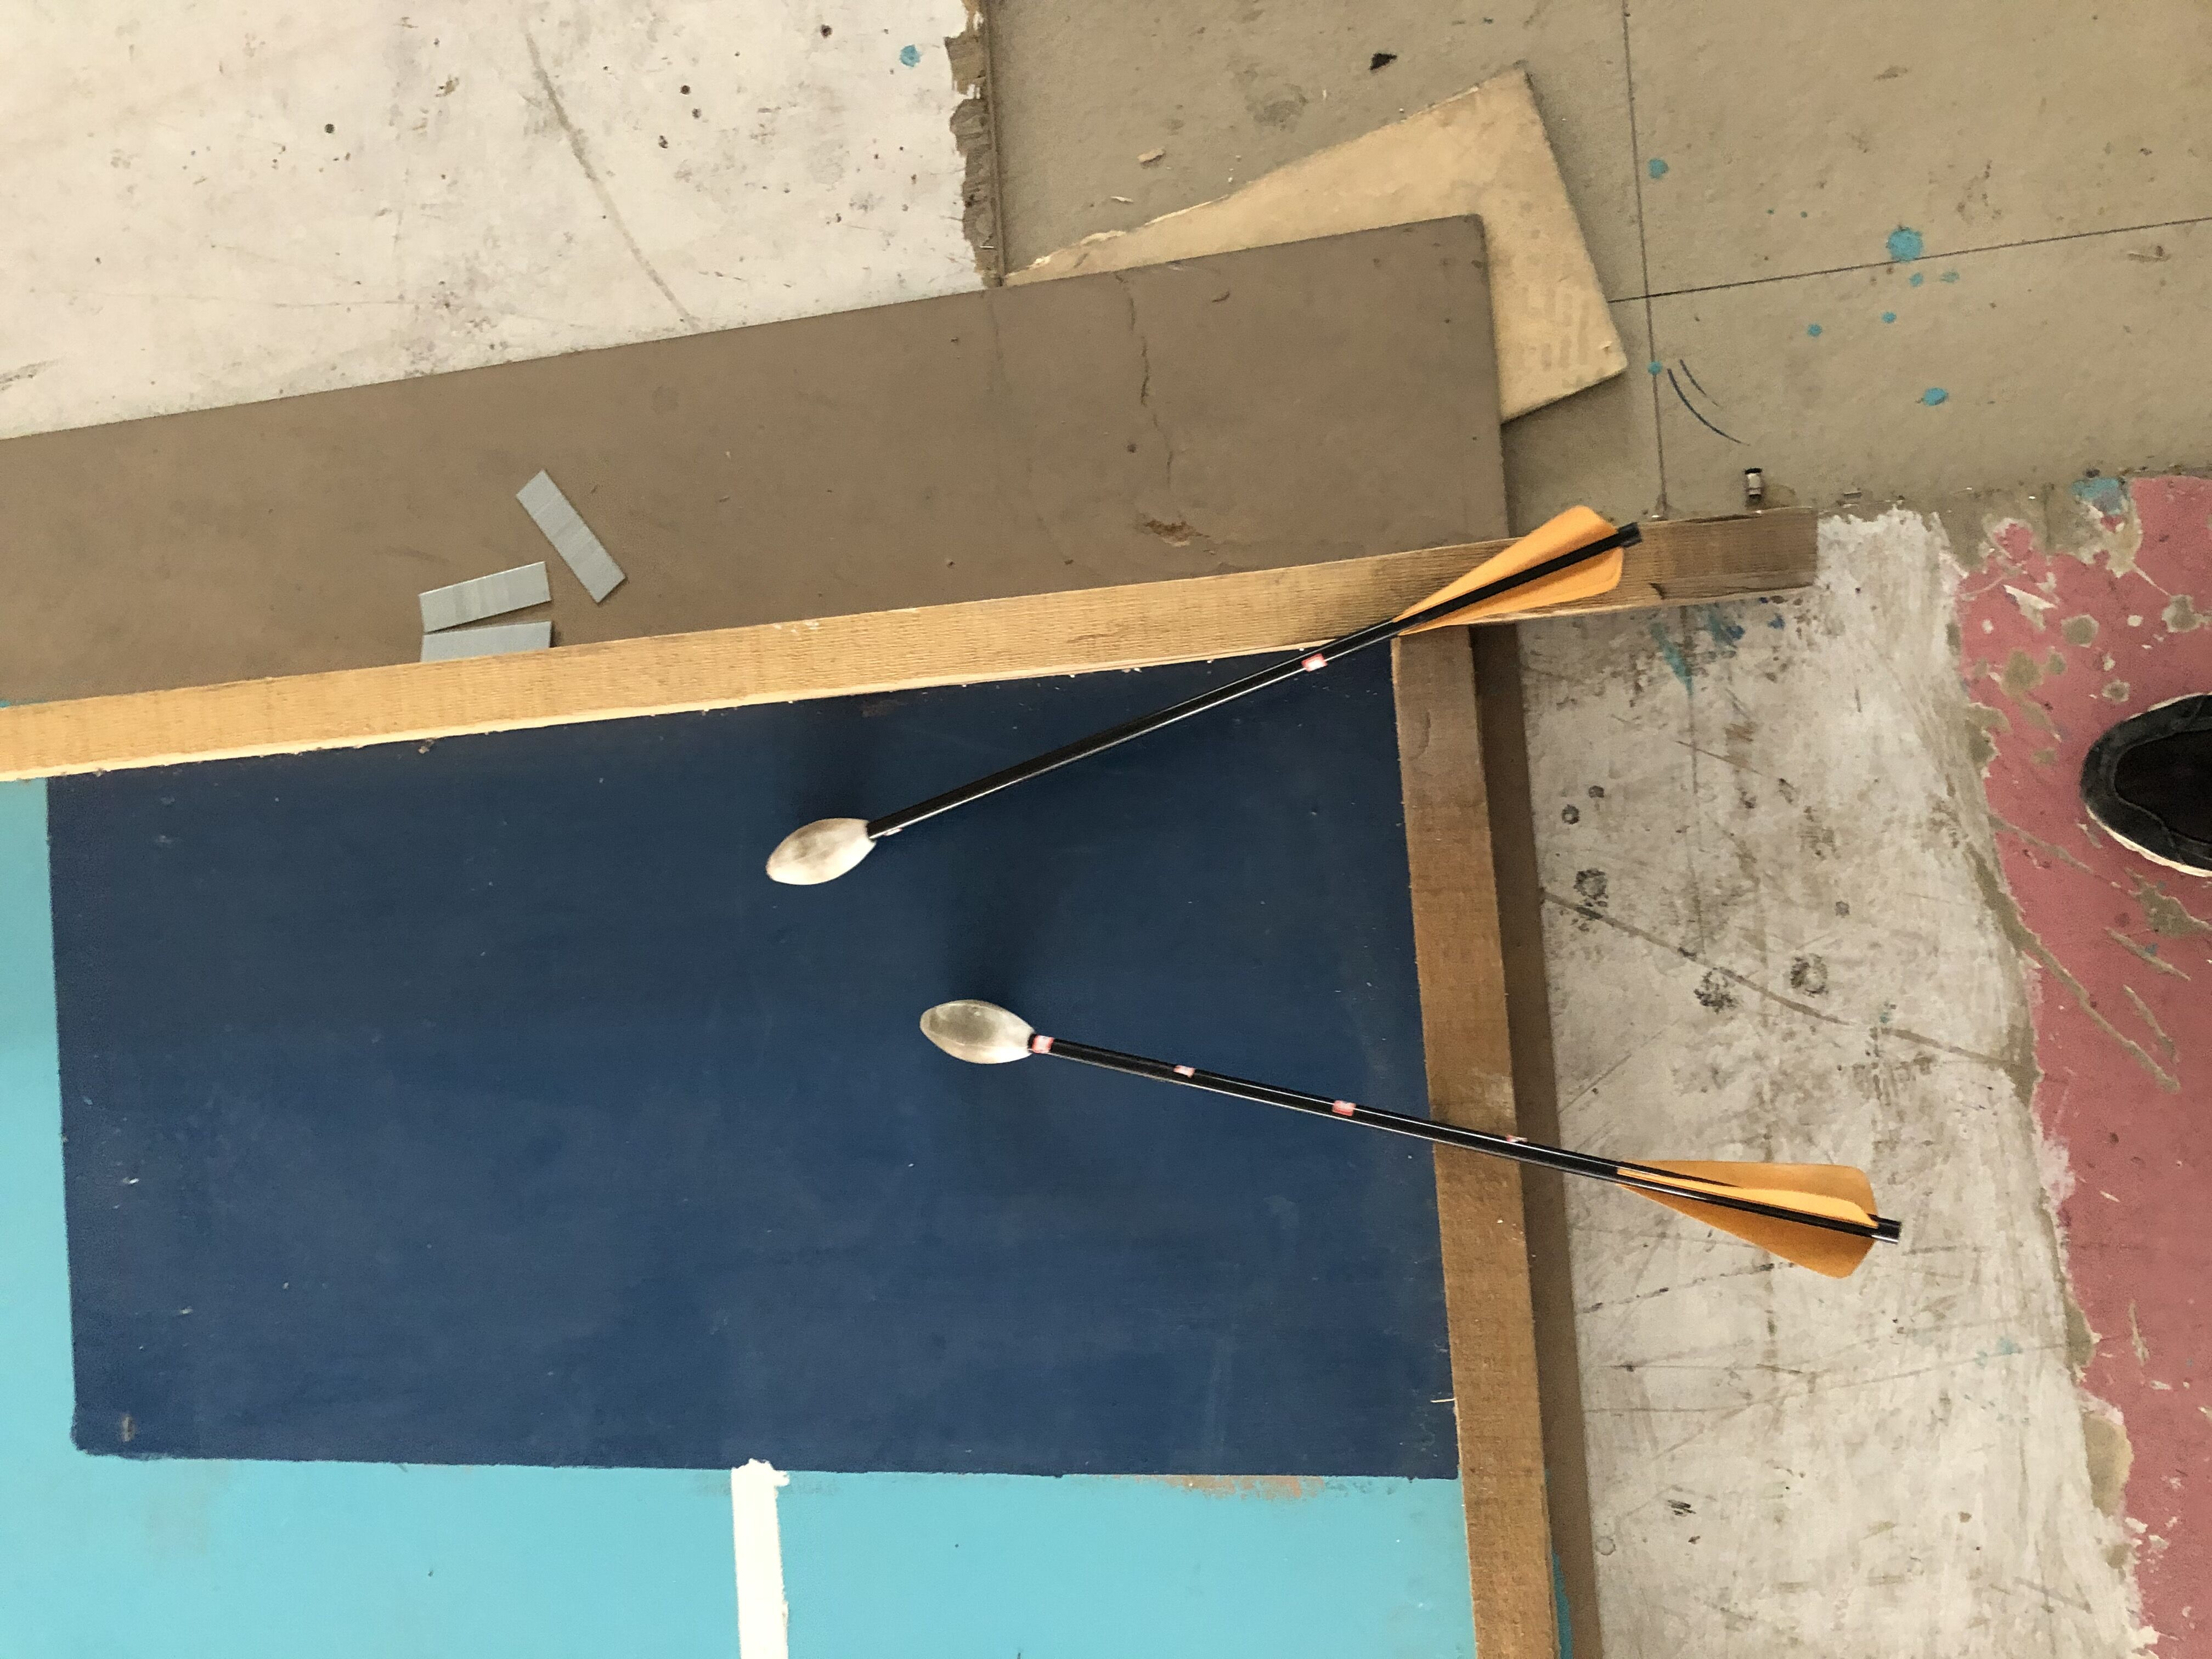arrow: (756, 504, 1644, 887), (921, 997, 1905, 1279)
arrowFront: (754, 812, 881, 885), (921, 995, 1040, 1070)
